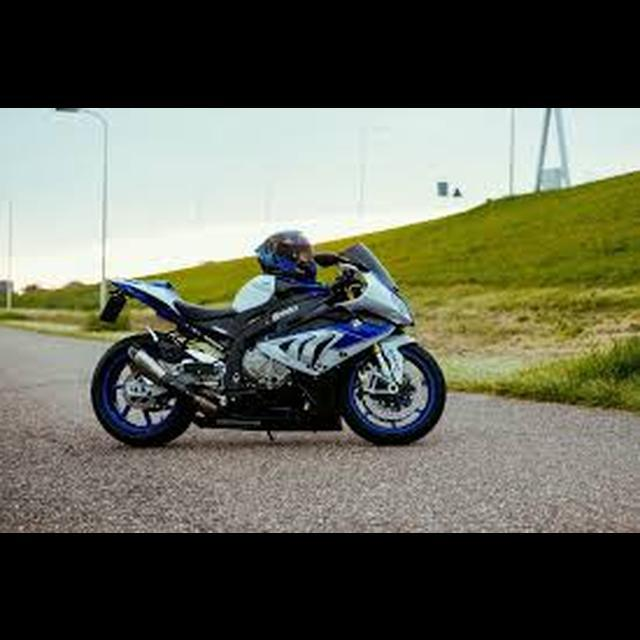motorcycle: (87, 237, 451, 455)
